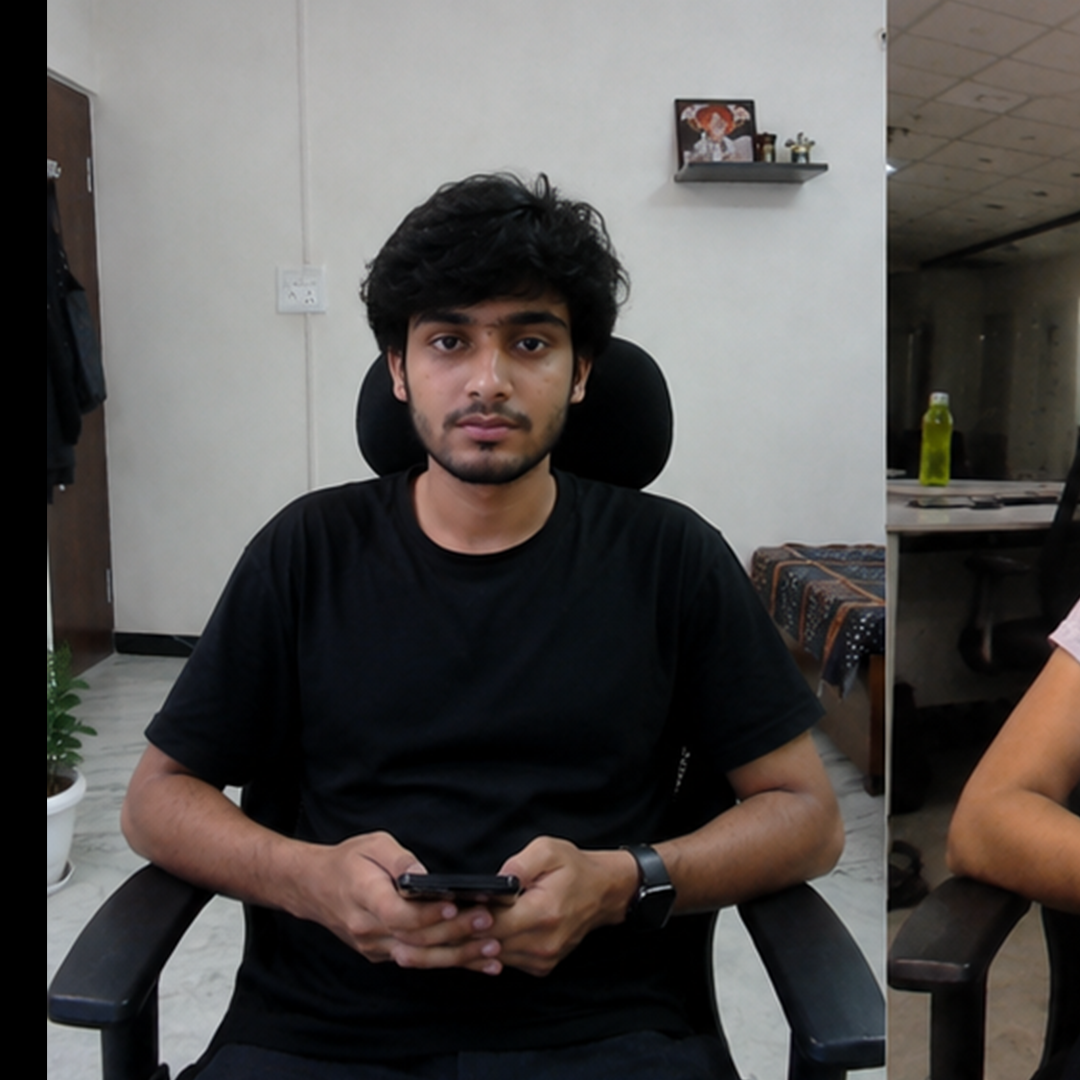Focused: (208, 91, 743, 980)
